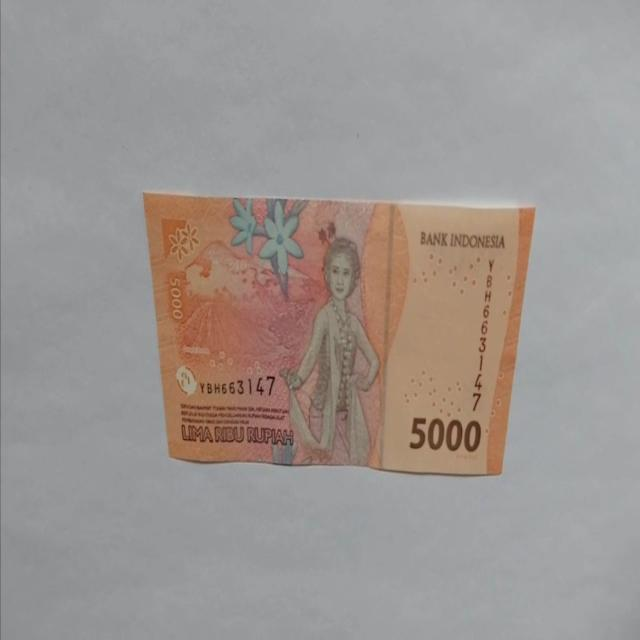lima ribu rupiah: (142, 190, 536, 475), (278, 235, 381, 466)
